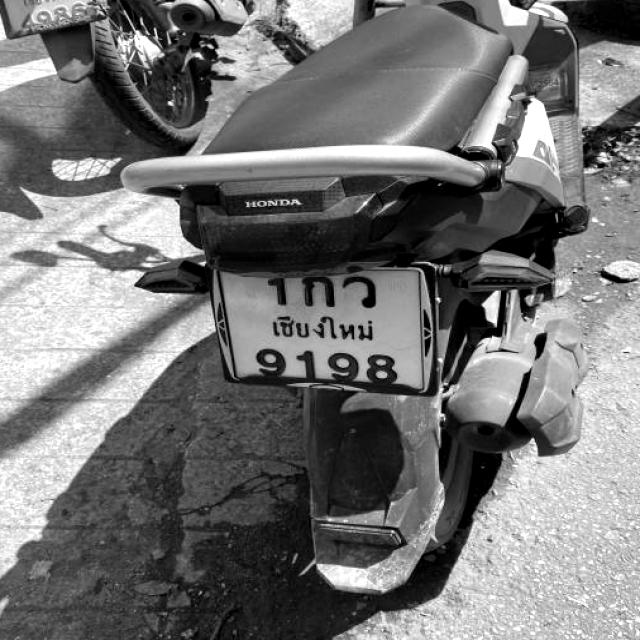letters: (300, 268, 335, 314), (344, 276, 379, 316), (329, 348, 364, 386), (260, 266, 288, 312), (256, 339, 280, 377), (369, 347, 392, 385), (294, 344, 318, 376)
license-plate: (212, 266, 430, 400)
province: (264, 309, 380, 341)
